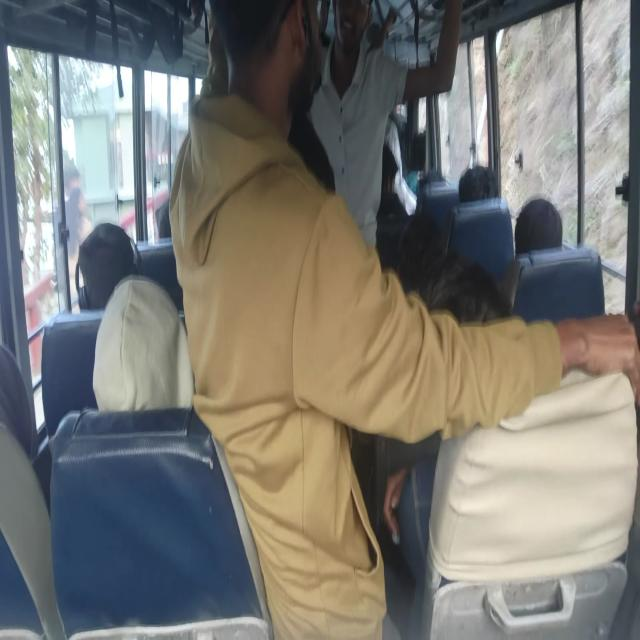person: (422, 269, 534, 420), (105, 302, 172, 433), (314, 0, 407, 77), (76, 222, 142, 312), (446, 198, 516, 280), (393, 209, 446, 293), (0, 339, 35, 464), (290, 114, 335, 195), (514, 198, 562, 255), (417, 178, 463, 231), (375, 208, 409, 268), (458, 165, 498, 204), (381, 142, 400, 197), (409, 130, 426, 173), (155, 200, 172, 239), (419, 167, 447, 185)
